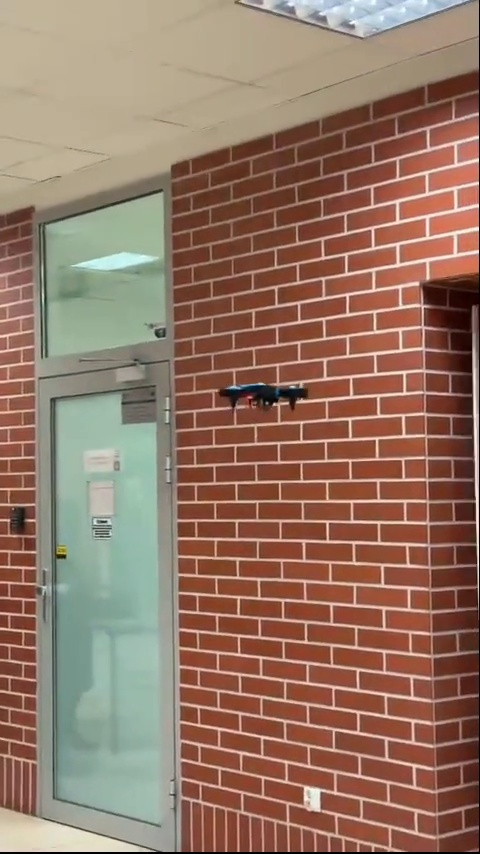drone: (218, 377, 308, 412)
